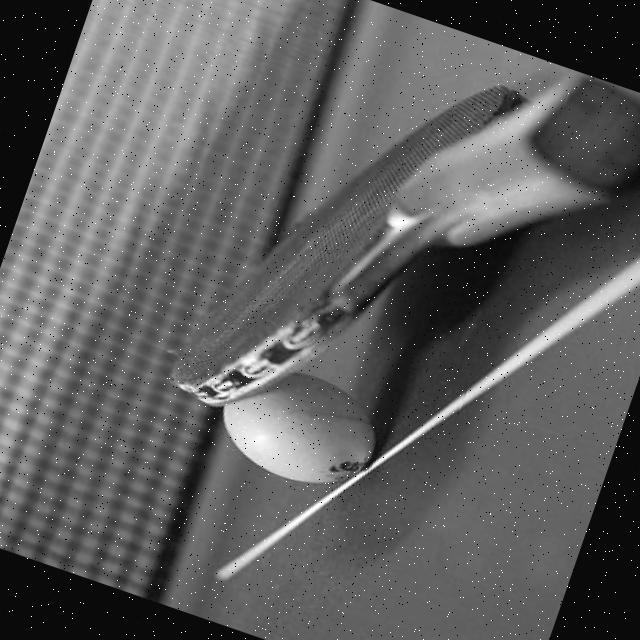ping-pong-ball: (202, 347, 394, 505)
